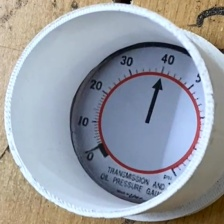gauge: (71, 43, 208, 203)
